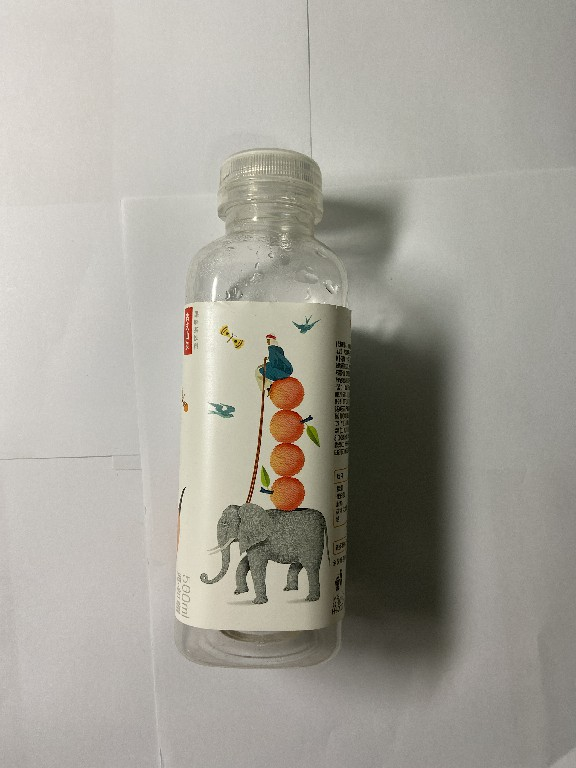bottle: (165, 145, 353, 673)
